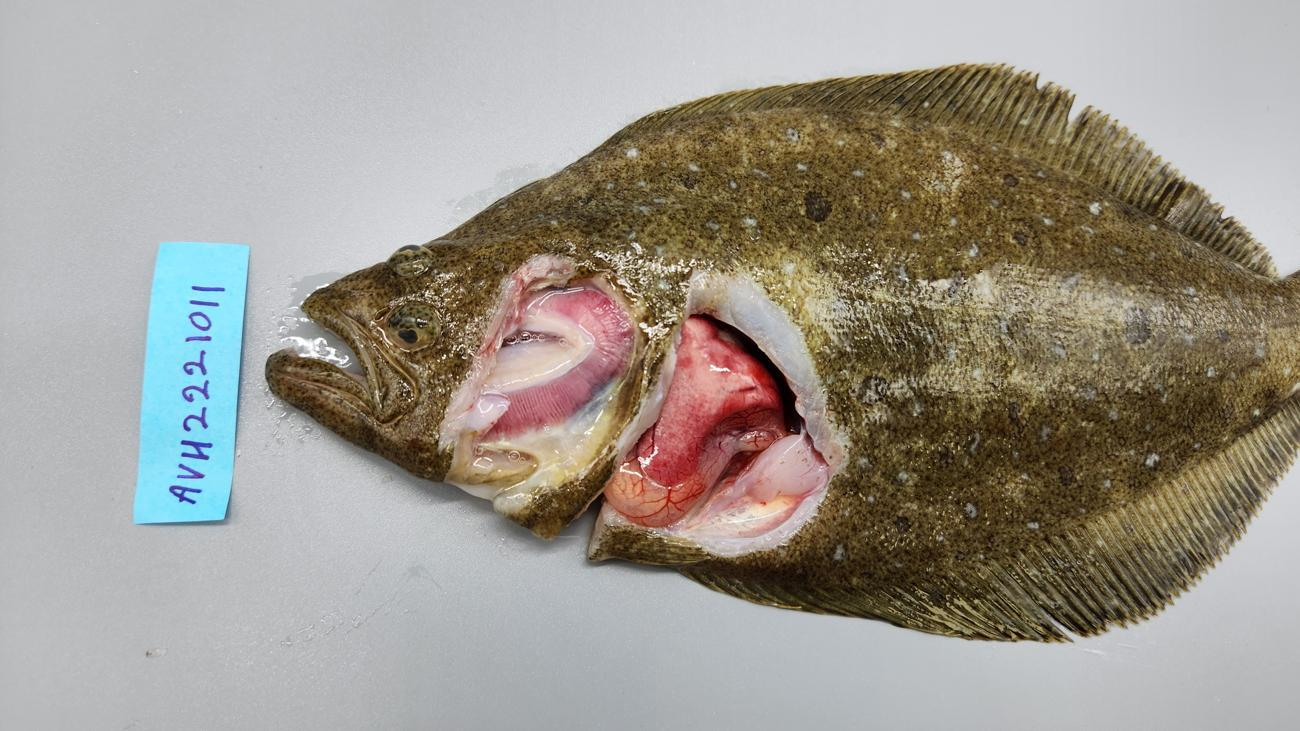VILII: (641, 319, 787, 482)
